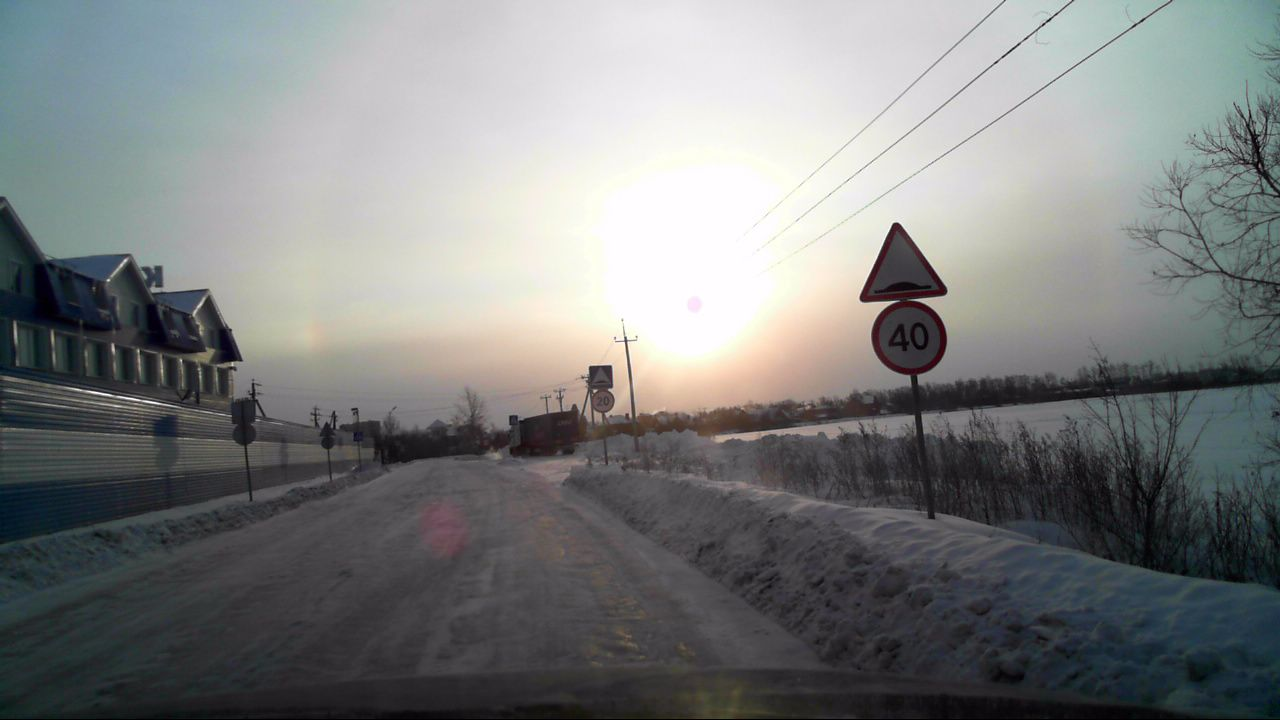speed_warning_40: (870, 301, 947, 376)
